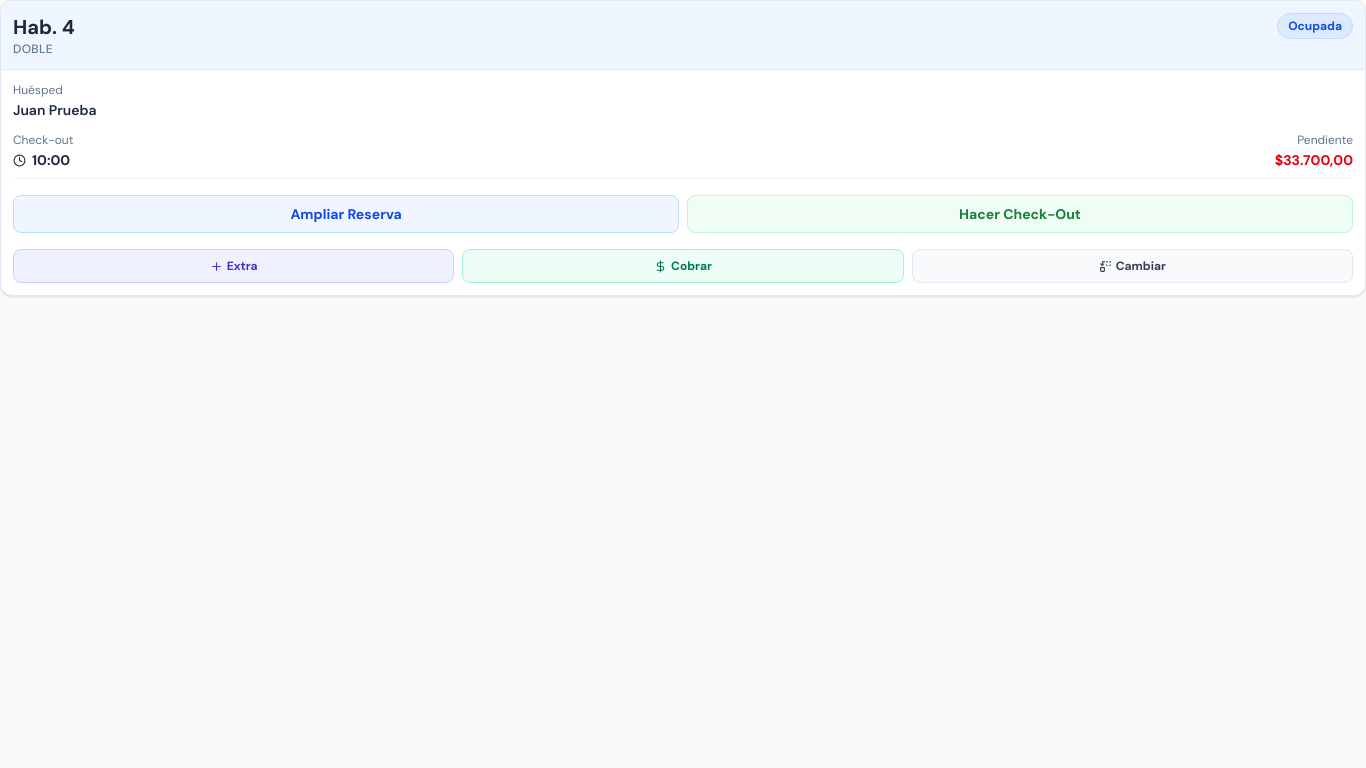
RoomCard: Cobrar a cuenta antes del check-out › «Cobrar» abre el cobro a cuenta con lo que falta, no el del check-out
Click the button "Cobrar": (683, 266) [462,249,904,283]
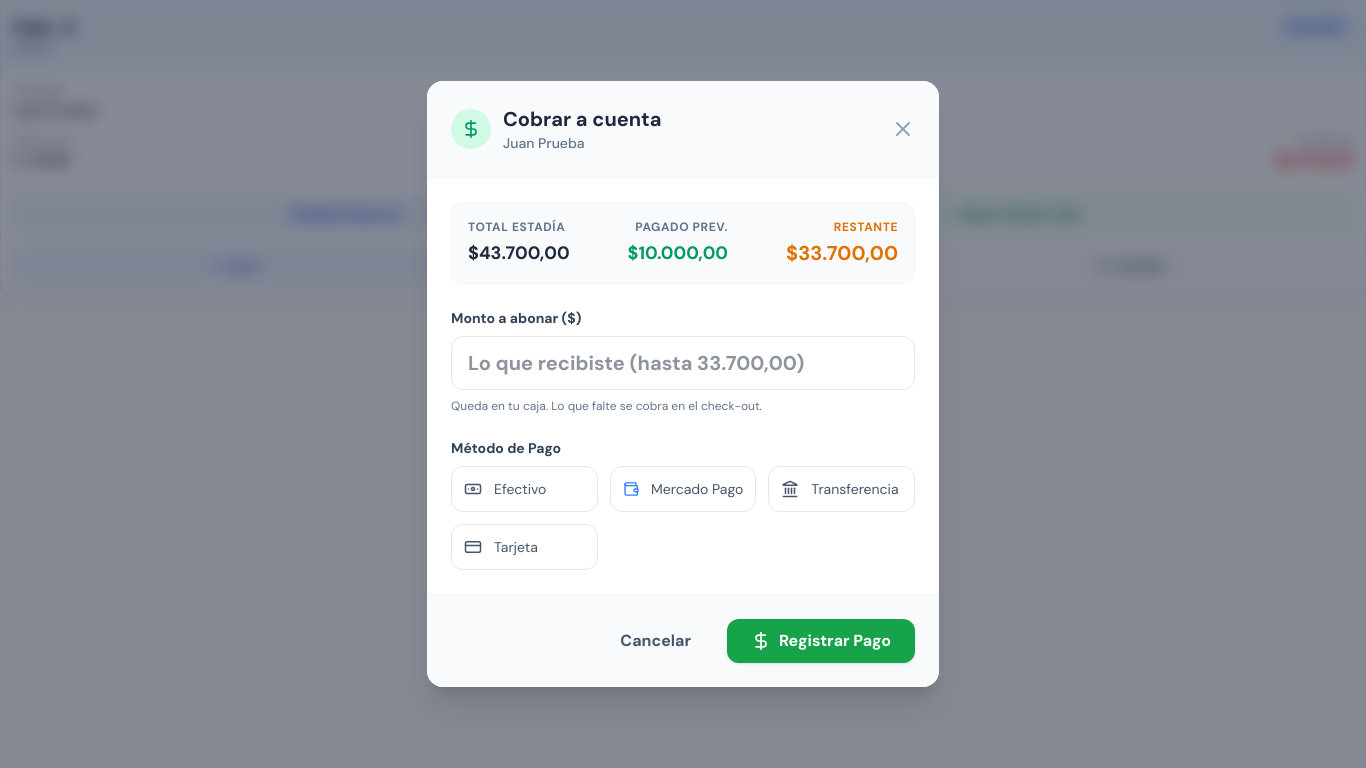
Expected: the heading "Cobrar a cuenta" is shown, [503,105,662,133]
Expected: the text "Queda en tu caja. Lo que falte se cobra en el check-out." is shown, [451,398,762,414]
Expected: the field labelled "Monto a abonar ($)" is empty, [451,336,915,390]
